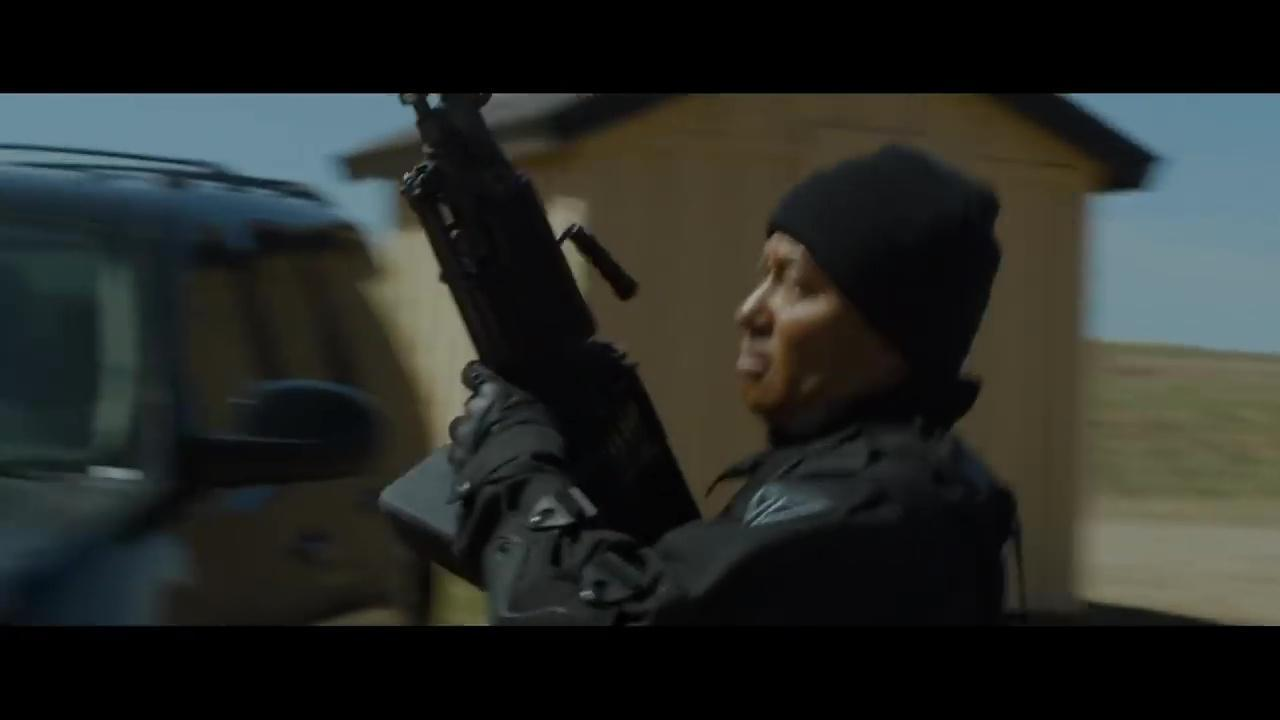Gun: (345, 94, 706, 590)
